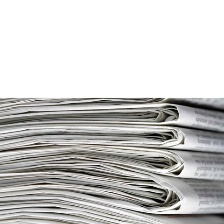news_paper: (0, 97, 224, 224)
